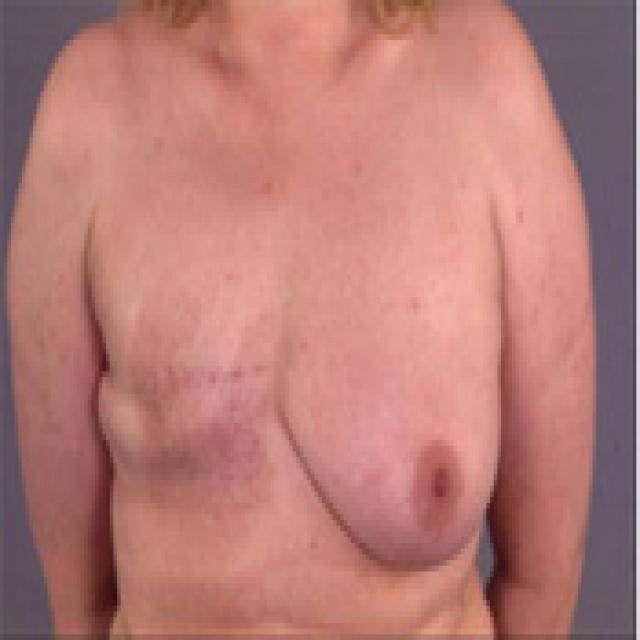Seno herido: (80, 258, 272, 520)
Seno ileso: (276, 206, 510, 602)
